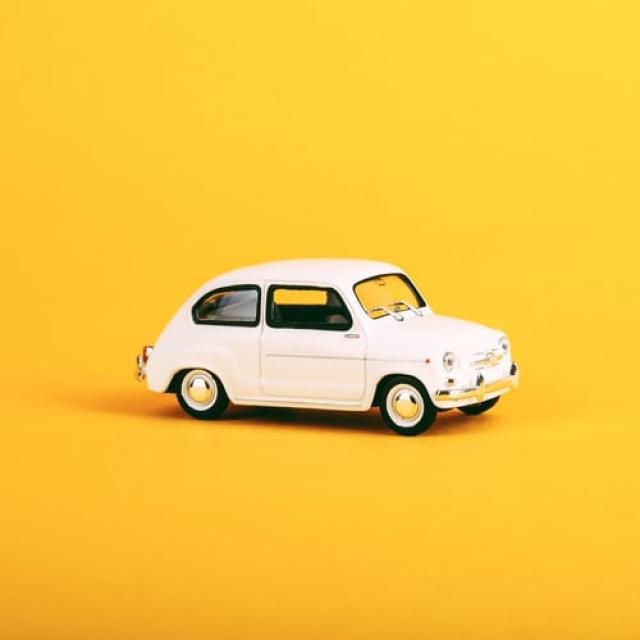Car: (136, 259, 517, 435)
